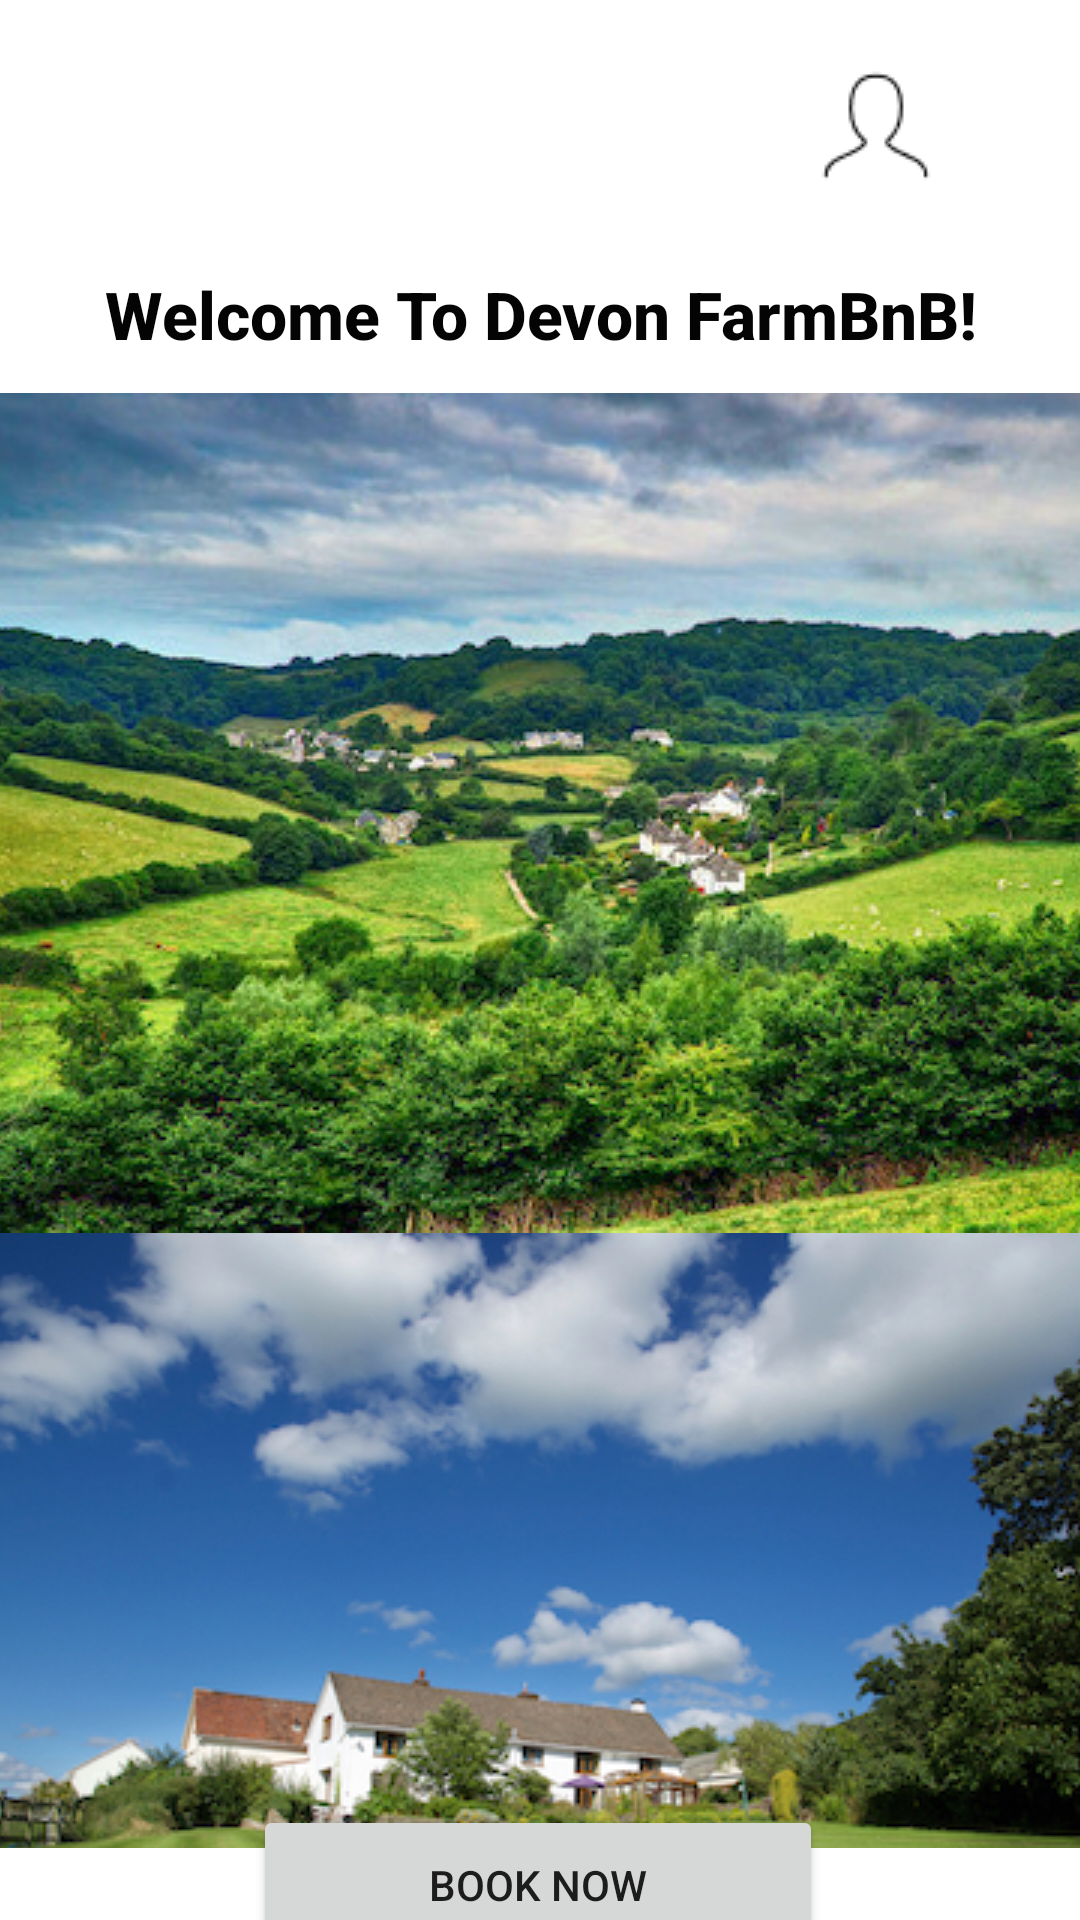

Screen size 1080x1920. Icon name, then its center in pixels as (x=x, y=y):
usericon: (x=876, y=125)
